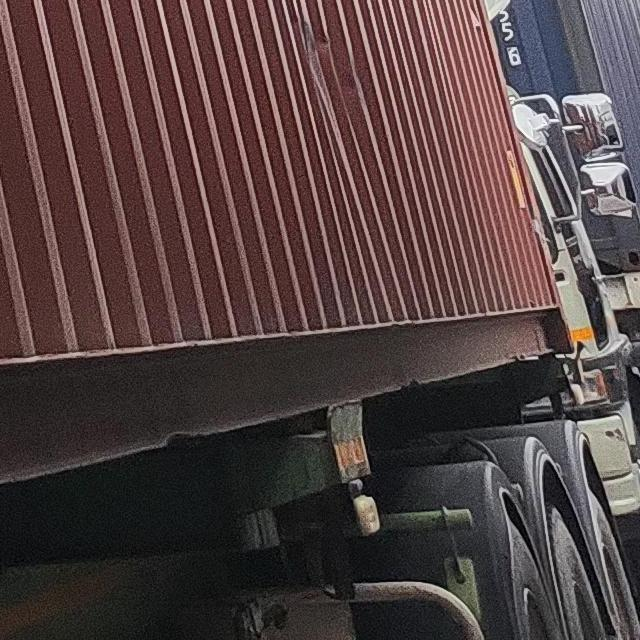dent: (288, 20, 365, 124)
